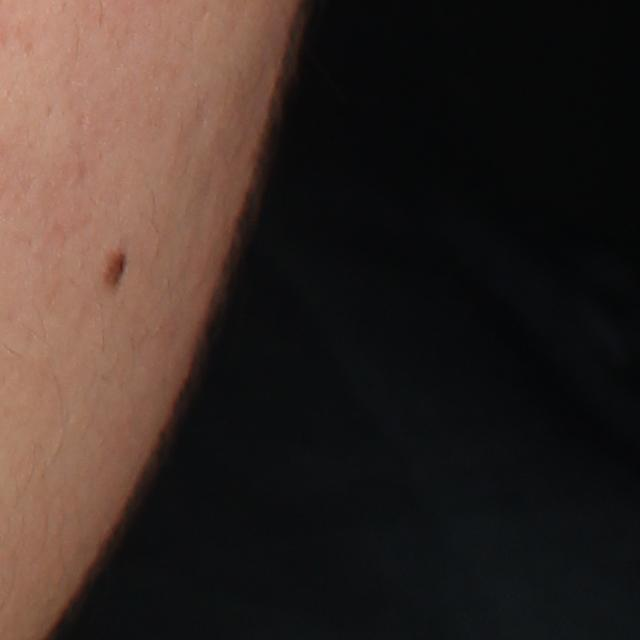nevus: (100, 249, 130, 290)
